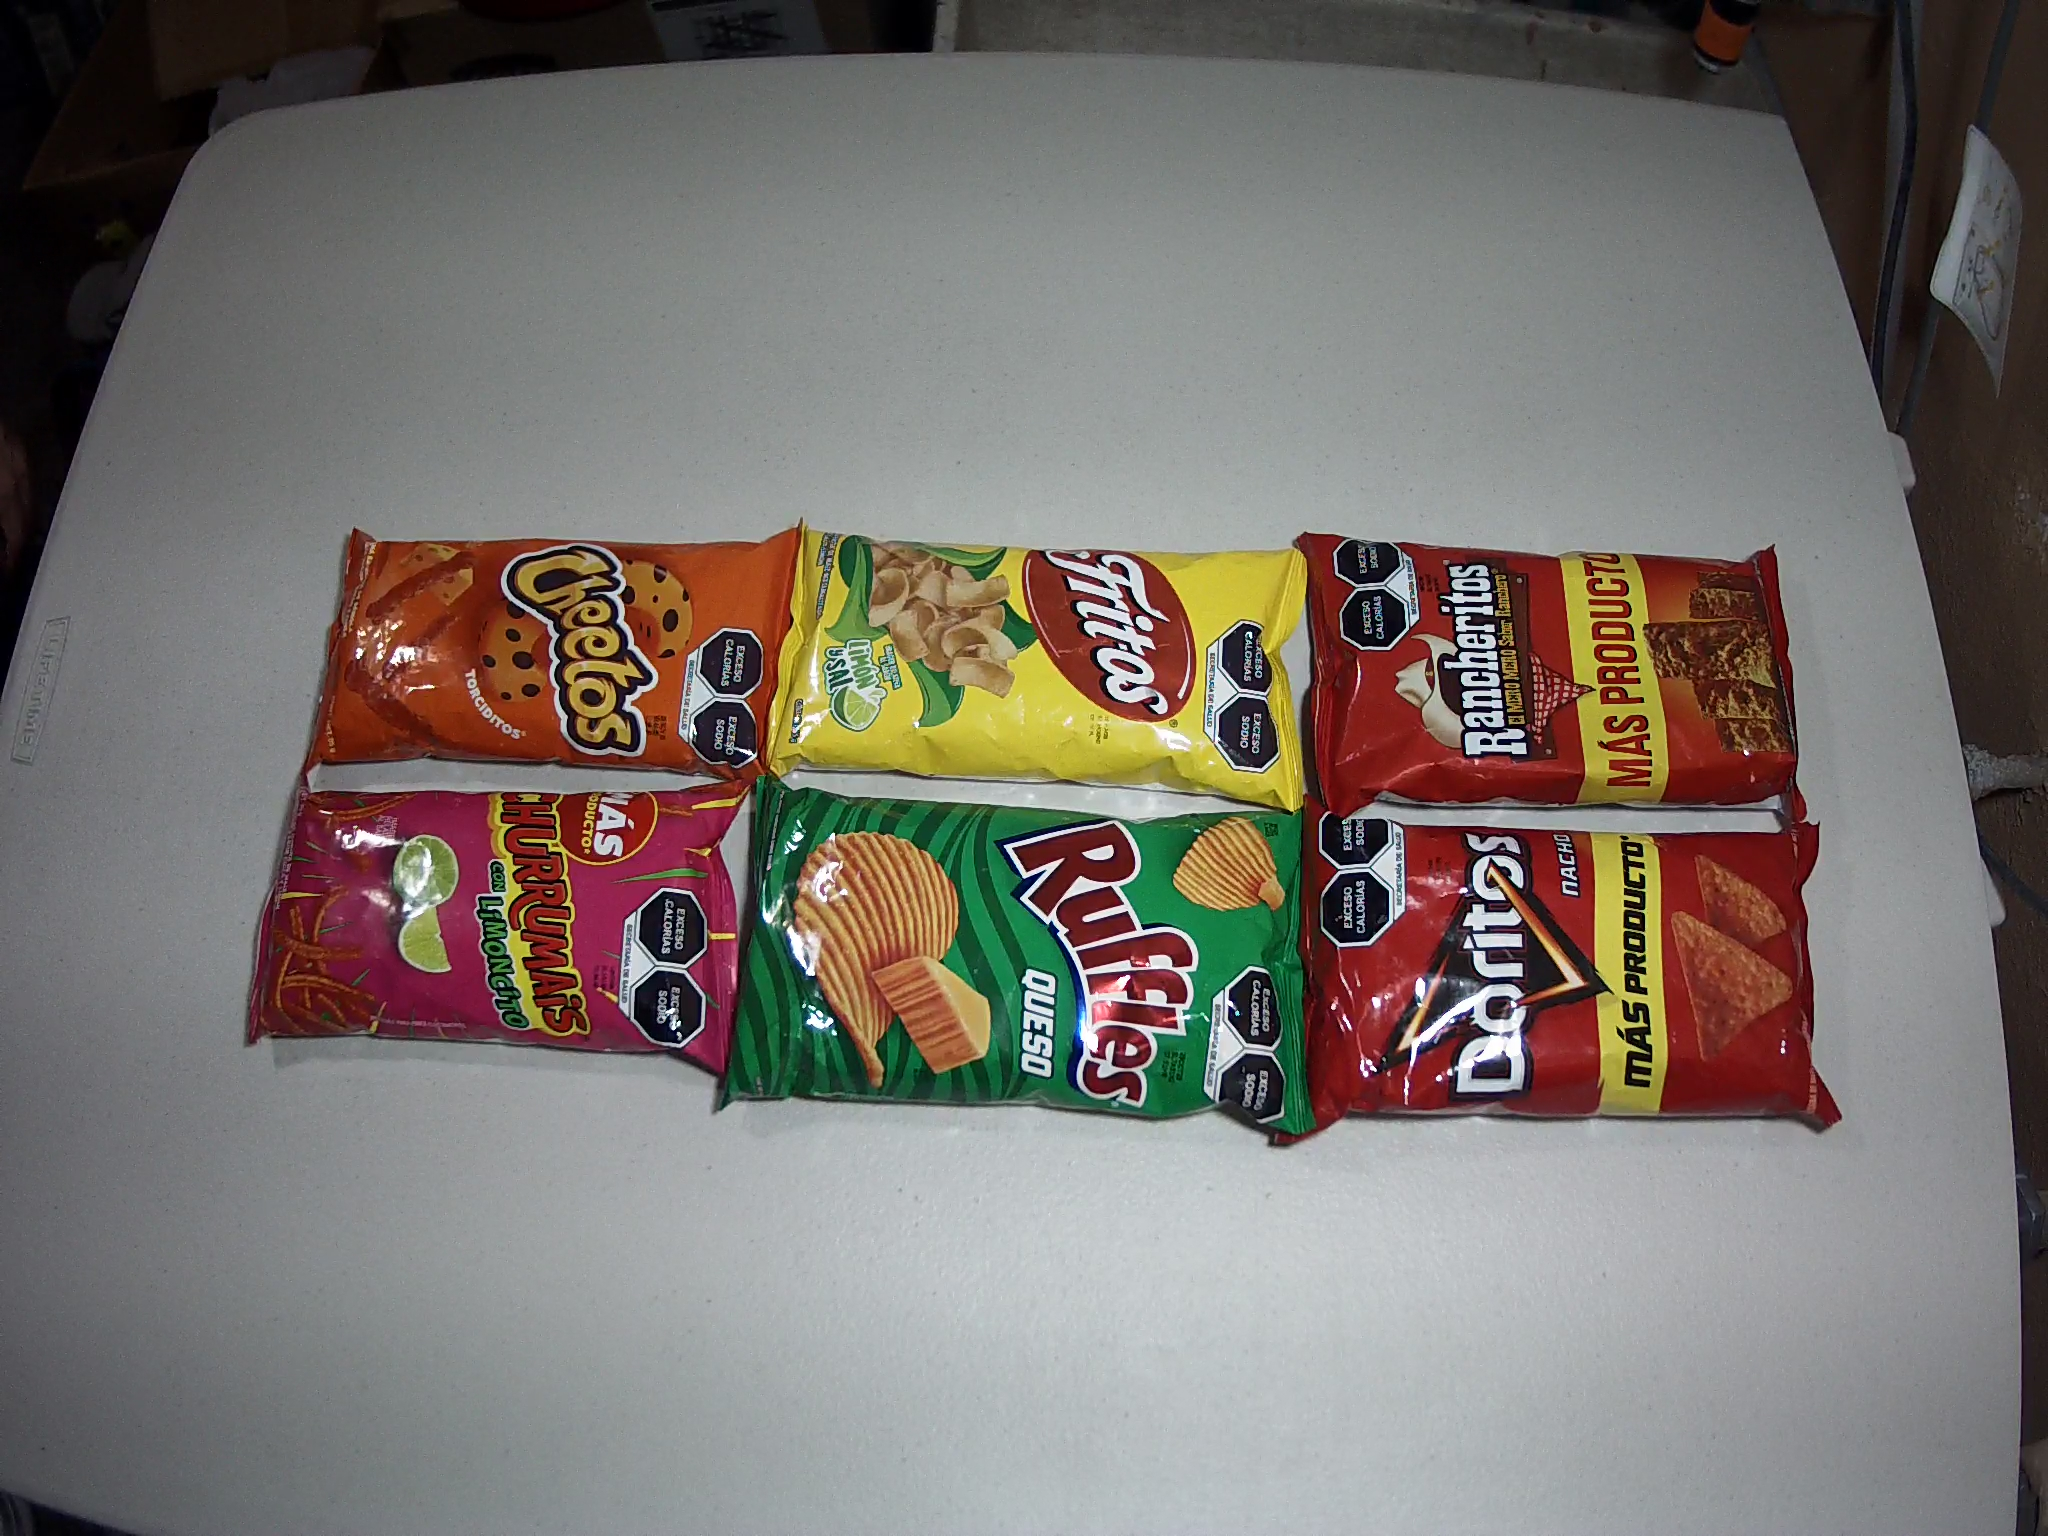CheetosTorciditos_55_F: (305, 524, 785, 783)
Churrumais_70_F: (245, 774, 743, 1071)
DoritosN_61_F: (1305, 820, 1845, 1141)
FritosSalLimon_65_F: (772, 520, 1309, 808)
Rancheritos_58_F: (1298, 529, 1813, 824)
RufflesQ_48_F: (731, 771, 1316, 1137)
